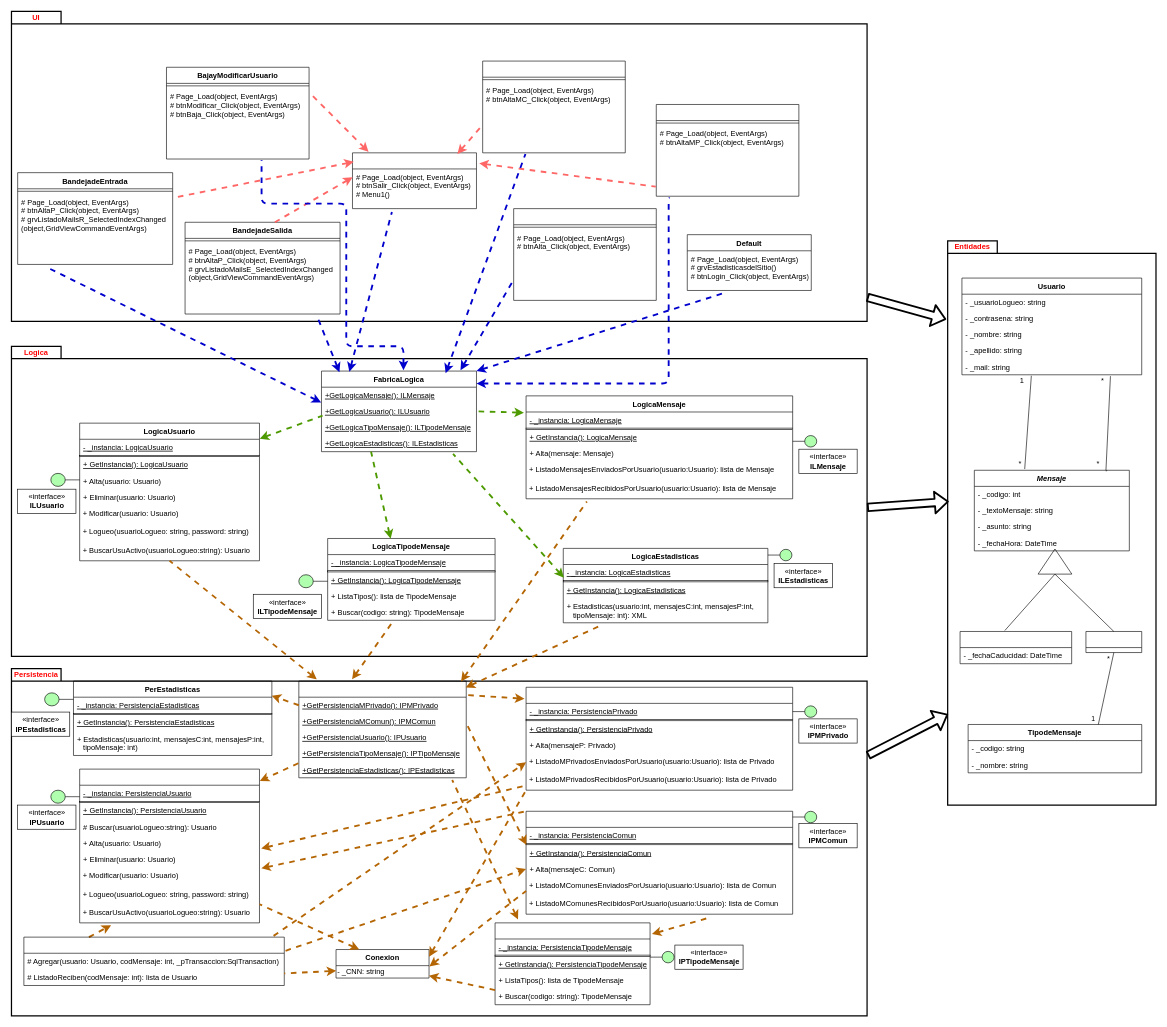
The diagram is 1167 pixels wide and 1027 high, and some of its shapes have lost their labels. The box of each missing label's shape, as (x1, y1, x2, y2) in pixels:
AltaMensajeComun: (482, 60, 625, 153)
AltaMensajePrivado: (656, 104, 799, 196)
AltaUsuario: (513, 208, 656, 300)
Comun: (1085, 631, 1142, 653)
FabricaPersistencia: (298, 680, 466, 778)
MasterPage: (352, 152, 476, 209)
PerMensajeComun: (525, 811, 793, 914)
PerMensajePrivado: (525, 687, 793, 790)
PerReciben: (23, 937, 284, 985)
PerTipodeMensaje: (494, 922, 650, 1005)
PerUsuario: (79, 768, 259, 923)
Privado: (959, 631, 1072, 664)
